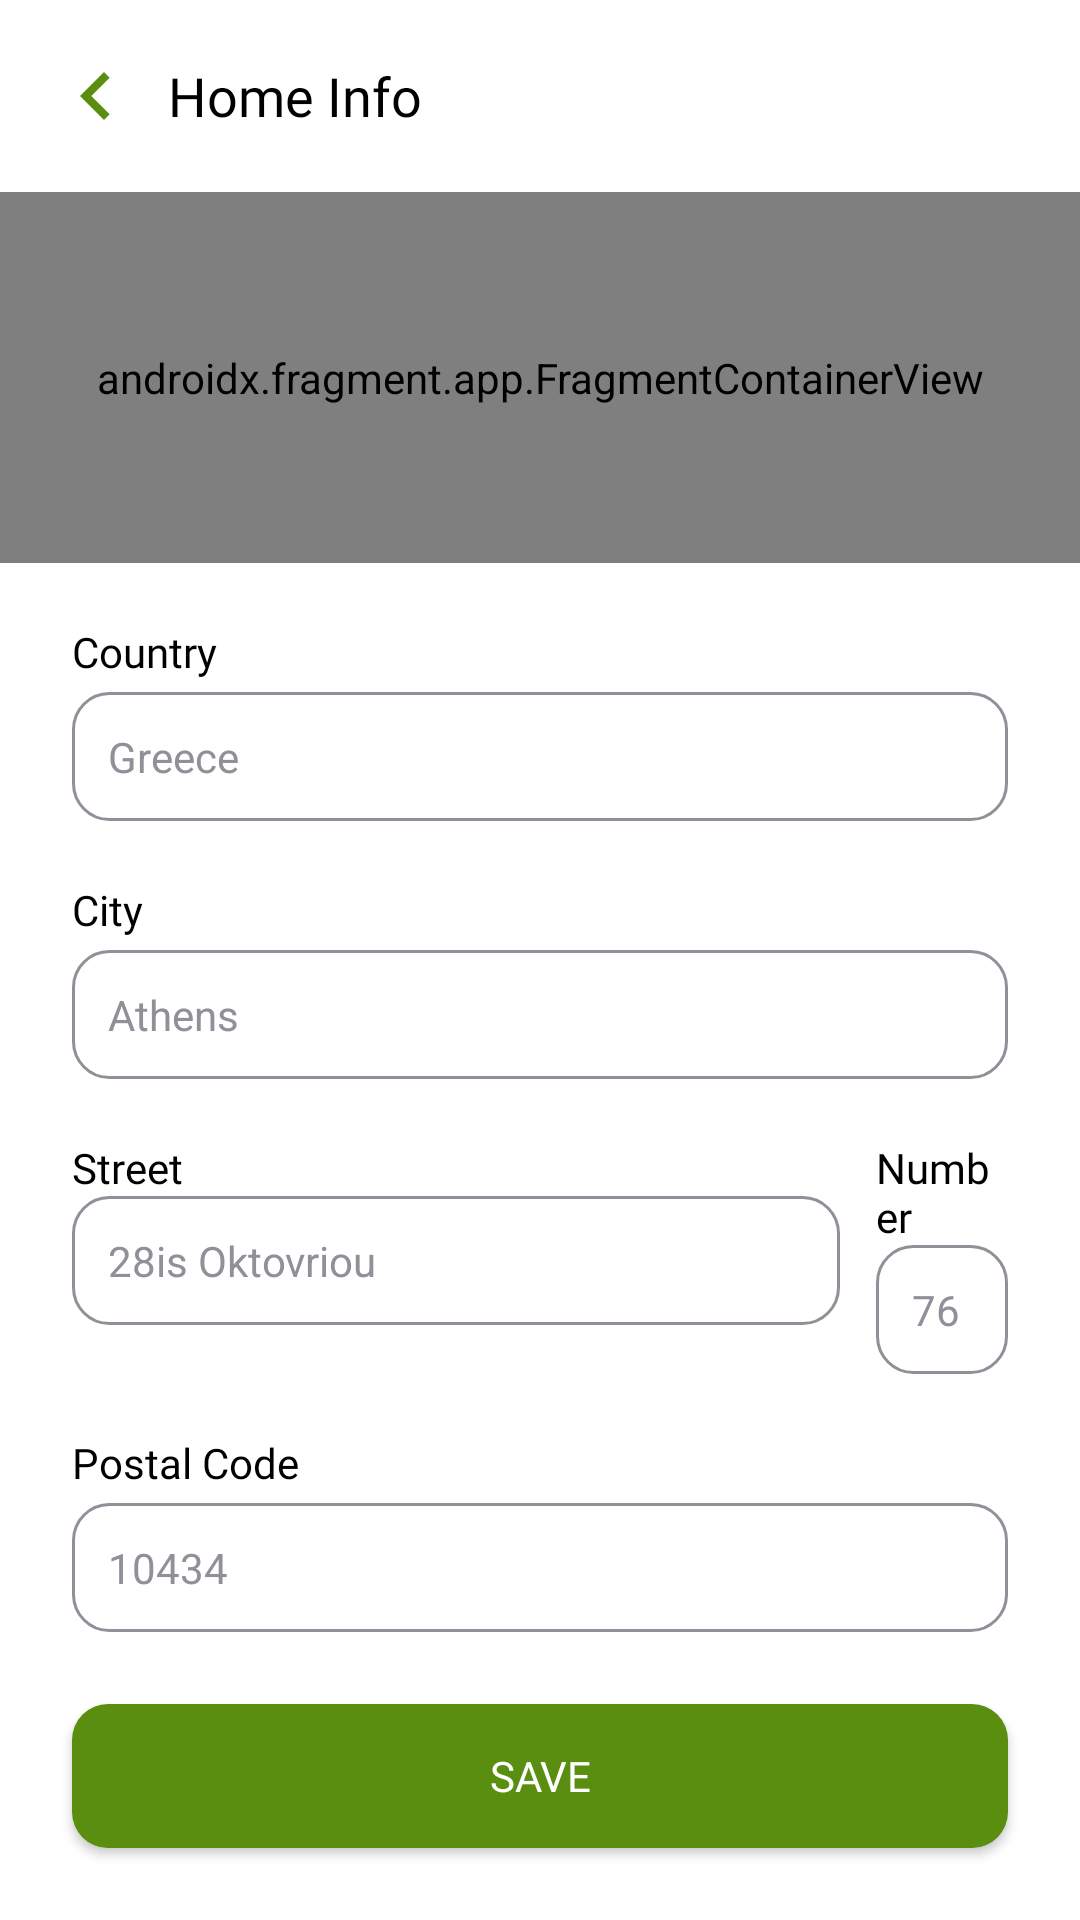

Named icons in this screenshot (1080x1920) and their bounding boxes, [x1, y1, x2, y2]:
chevron left: [80, 72, 110, 120]
